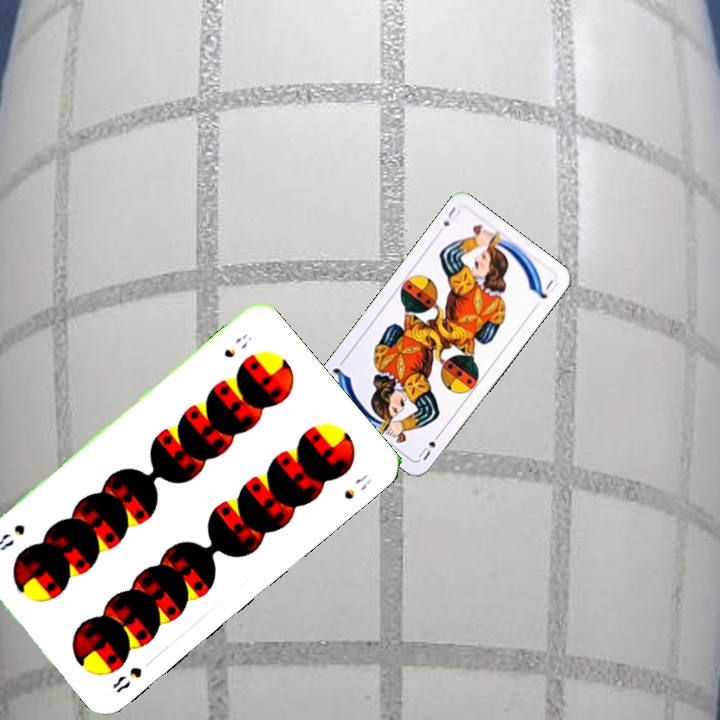S8: (108, 662, 145, 696), (219, 330, 255, 361)
SU: (414, 428, 444, 463), (439, 202, 463, 229)
